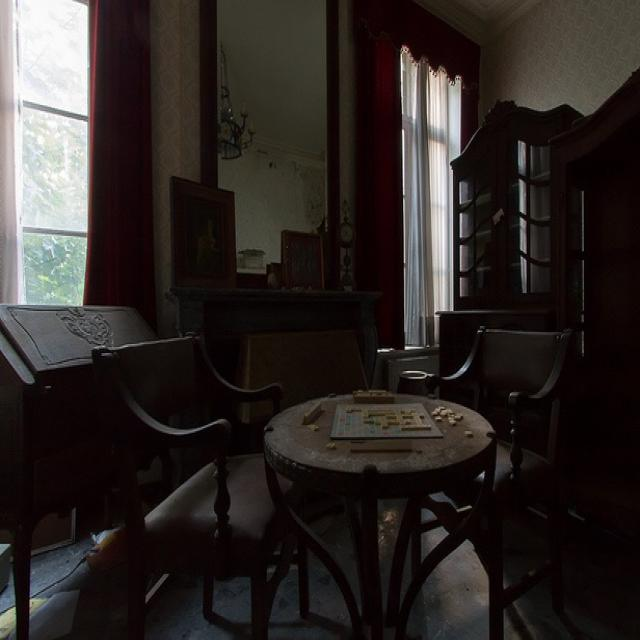Table: (257, 363, 511, 636)
chair: (90, 314, 287, 640), (445, 302, 638, 566)
